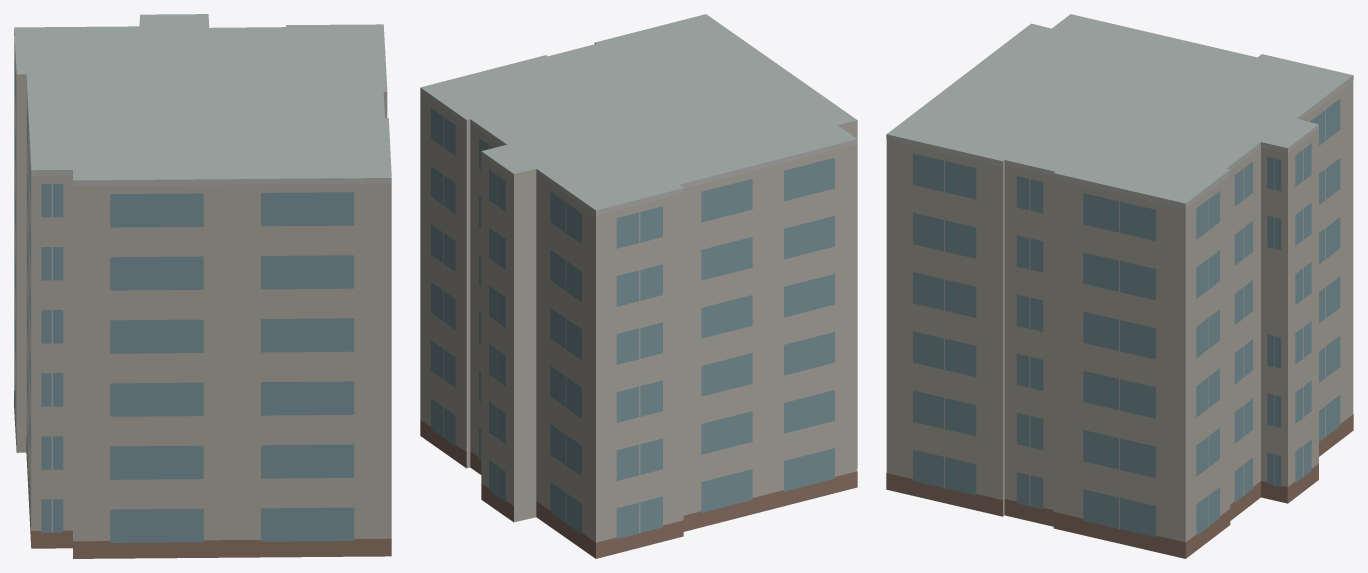
File: survey-upis-32945633.glb
3 views of the same model, side by side, from view 1: azimuth 30°, elevation 25°; view 2: azimuth 150°, elevation 25°; view 3: azimuth 270°, elevation 25° (orthographic). The views are drawn at different scales.
Visible parts, largest first — view 1: survey-upis-32945633.tmp; view 2: survey-upis-32945633.tmp; view 3: survey-upis-32945633.tmp.
Boxes of the visible parts, bbox=[...] form: survey-upis-32945633.tmp: bbox=[14, 14, 391, 558]; survey-upis-32945633.tmp: bbox=[420, 14, 857, 558]; survey-upis-32945633.tmp: bbox=[886, 14, 1353, 558].
Bounding box in the file's own units: 19 × 16.6 × 19.78.
